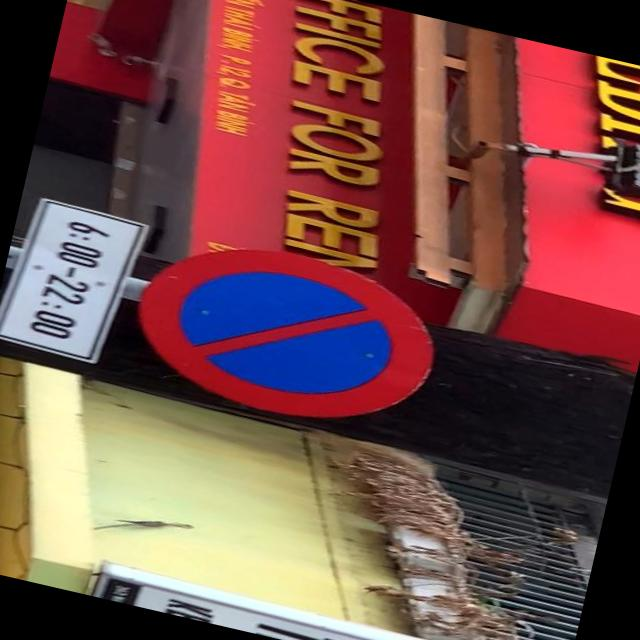P-131a: (126, 224, 448, 440)
